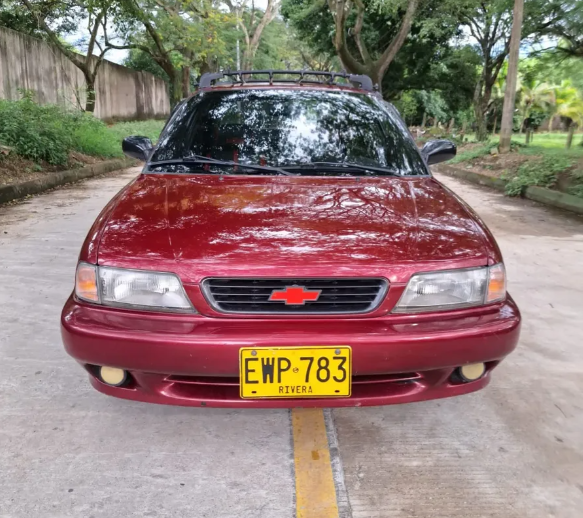placa: (239, 345, 350, 399)
